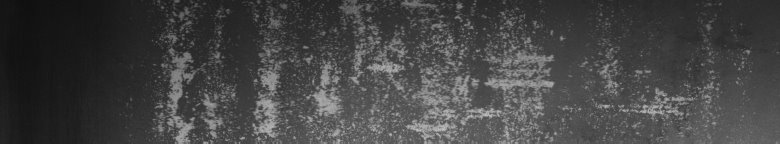kb: (152, 4, 750, 136)
